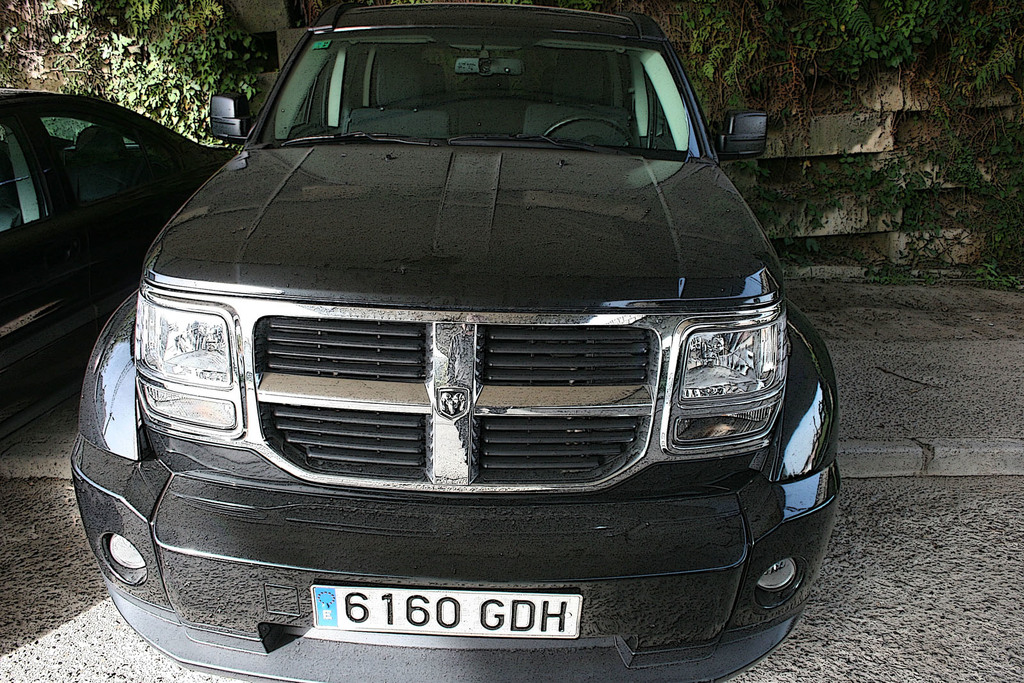Car: (93, 14, 805, 683), (0, 85, 237, 452)
